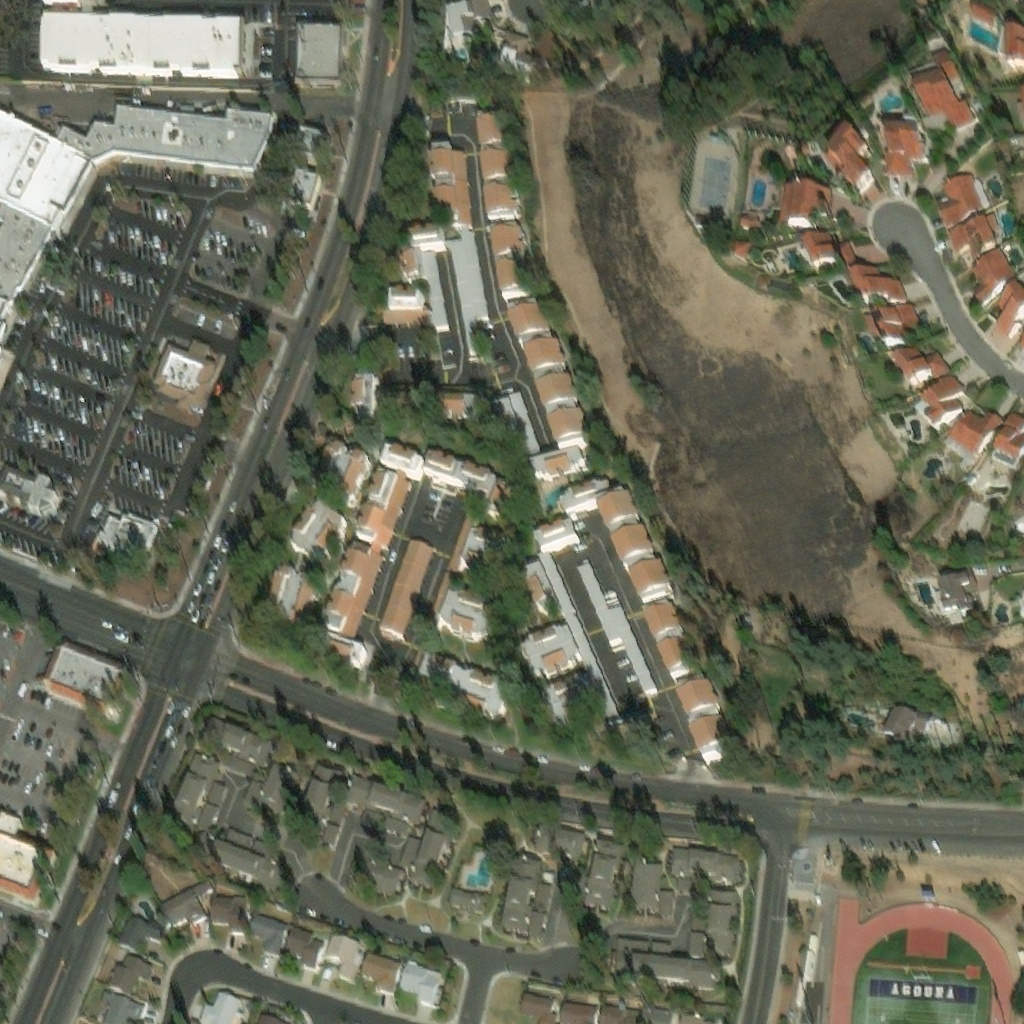0 no-damage: (53, 105, 273, 170), (40, 12, 241, 72), (0, 109, 94, 228), (310, 546, 383, 668), (39, 638, 129, 717), (412, 651, 507, 717), (376, 533, 435, 636), (0, 198, 54, 303), (427, 571, 500, 648), (444, 225, 488, 351), (148, 333, 216, 413), (0, 811, 57, 905), (163, 748, 220, 829), (444, 508, 508, 577), (911, 49, 971, 120), (199, 713, 273, 767), (309, 437, 369, 503), (208, 838, 284, 889), (291, 495, 346, 565), (264, 562, 321, 629), (429, 141, 472, 227), (635, 953, 721, 995), (94, 509, 158, 565), (498, 851, 540, 934), (296, 760, 344, 831), (519, 627, 582, 680), (825, 125, 875, 191), (690, 885, 736, 955), (495, 389, 542, 457), (243, 763, 308, 811), (544, 674, 600, 729), (530, 820, 584, 874), (0, 462, 59, 511), (933, 565, 981, 625), (928, 160, 980, 215), (106, 951, 162, 1002), (550, 474, 613, 519), (943, 399, 999, 449), (861, 287, 915, 338), (940, 199, 995, 248), (366, 779, 427, 823), (410, 826, 454, 887), (916, 359, 961, 418), (294, 23, 341, 79), (966, 236, 1014, 290), (885, 331, 943, 375), (776, 179, 830, 225), (668, 844, 737, 880), (845, 255, 902, 298), (881, 117, 924, 173), (689, 713, 739, 761), (580, 853, 622, 909), (882, 704, 933, 749), (323, 931, 366, 982), (399, 957, 443, 1006), (597, 492, 644, 537), (676, 677, 723, 722), (355, 849, 403, 893), (158, 885, 208, 927), (800, 227, 855, 265), (987, 272, 1023, 330), (612, 527, 657, 573), (277, 163, 321, 209), (422, 252, 448, 328), (118, 914, 170, 952), (444, 0, 493, 40), (629, 560, 673, 603), (547, 408, 592, 450), (454, 459, 499, 501), (249, 911, 290, 957), (353, 503, 391, 552), (382, 286, 432, 323), (358, 951, 400, 995), (284, 925, 324, 969), (531, 445, 584, 478), (991, 404, 1023, 458), (288, 123, 329, 165), (644, 605, 686, 645), (630, 854, 660, 909), (508, 302, 552, 339), (100, 988, 146, 1023), (382, 469, 410, 526), (660, 637, 699, 677), (523, 337, 567, 372), (500, 29, 534, 73), (536, 518, 580, 552), (378, 444, 424, 476), (199, 990, 243, 1023), (536, 374, 578, 408), (525, 16, 556, 62), (210, 892, 247, 930), (366, 467, 398, 509), (523, 562, 552, 607), (968, 553, 992, 607), (613, 935, 646, 974), (491, 223, 525, 259), (483, 184, 517, 219), (351, 375, 380, 416), (479, 149, 512, 185), (422, 449, 459, 481), (496, 262, 527, 300), (521, 989, 555, 1023), (345, 772, 372, 811), (789, 839, 816, 878), (426, 805, 461, 835), (558, 997, 597, 1023), (640, 998, 678, 1023), (407, 224, 444, 249), (1002, 17, 1023, 61), (397, 250, 425, 283), (444, 394, 480, 419), (448, 885, 484, 909), (599, 1002, 639, 1023), (328, 784, 349, 823), (477, 116, 505, 145), (0, 299, 11, 370), (489, 478, 515, 508), (190, 830, 216, 859), (196, 800, 220, 830), (224, 753, 255, 775), (223, 825, 252, 848), (400, 833, 422, 863), (381, 813, 411, 834), (593, 835, 624, 855), (320, 819, 341, 847), (730, 241, 755, 264), (970, 2, 996, 24), (687, 926, 706, 956), (528, 906, 546, 937), (359, 806, 386, 826), (250, 836, 274, 857), (207, 778, 227, 803), (533, 879, 552, 905), (681, 1011, 721, 1023), (191, 877, 213, 896), (676, 875, 700, 892), (257, 1012, 292, 1023), (658, 887, 672, 913), (399, 394, 420, 411), (41, 0, 96, 6), (737, 215, 760, 228), (1016, 69, 1023, 109), (650, 939, 669, 952), (1012, 326, 1023, 345), (699, 217, 712, 228), (188, 1013, 200, 1023)
